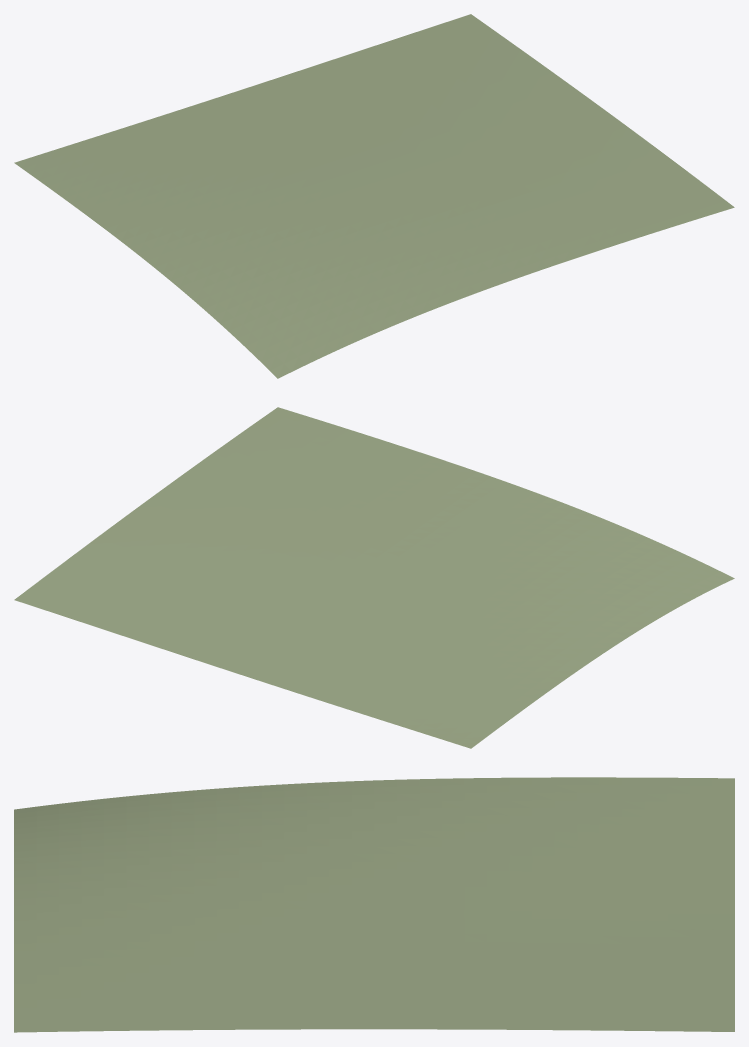
The model's file is expanse-10-9.glb.
3 renders of one model, top to bottom at view 1: azimuth 30°, elevation 25°; view 2: azimuth 150°, elevation 25°; view 3: azimuth 270°, elevation 25°, orthographic. The views are drawn at different scales.
Parts seen in each view (by area): view 1: expanse-10-9; view 2: expanse-10-9; view 3: expanse-10-9.
Boxes of the visible parts, left/top/right/bottom form: expanse-10-9: left=14, top=14, right=734, bottom=378; expanse-10-9: left=14, top=407, right=734, bottom=748; expanse-10-9: left=14, top=777, right=734, bottom=1032.
Size of the model in its own units: 256 by 33.26 by 256.
